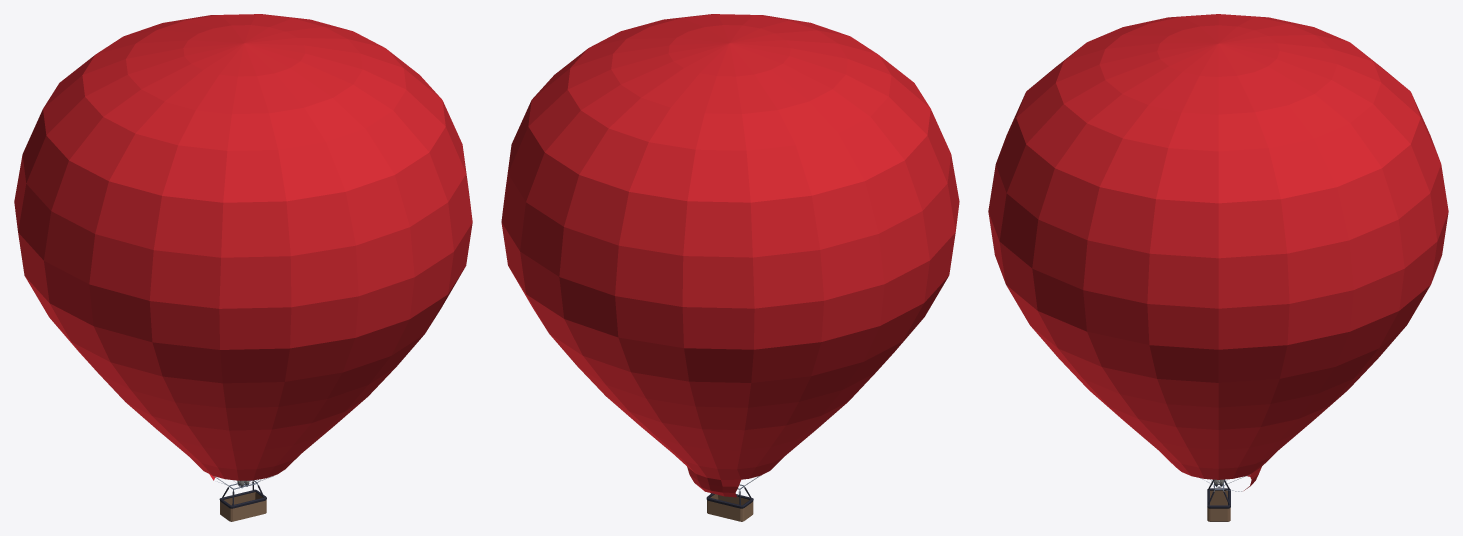
The model's file is HotAirBallon_Big_02.fbx.
3 views of the same model, side by side, from view 1: azimuth 30°, elevation 25°; view 2: azimuth 150°, elevation 25°; view 3: azimuth 270°, elevation 25° (orthographic).
Visible parts, largest first — view 1: HotAirBallon_Big_02; view 2: HotAirBallon_Big_02; view 3: HotAirBallon_Big_02.
Boxes of the visible parts, x1=… form: HotAirBallon_Big_02: x1=14, y1=14, x2=472, y2=521; HotAirBallon_Big_02: x1=501, y1=14, x2=959, y2=521; HotAirBallon_Big_02: x1=988, y1=14, x2=1448, y2=521.
Bounding box in the file's own units: 32.13 × 36.26 × 32.13.
